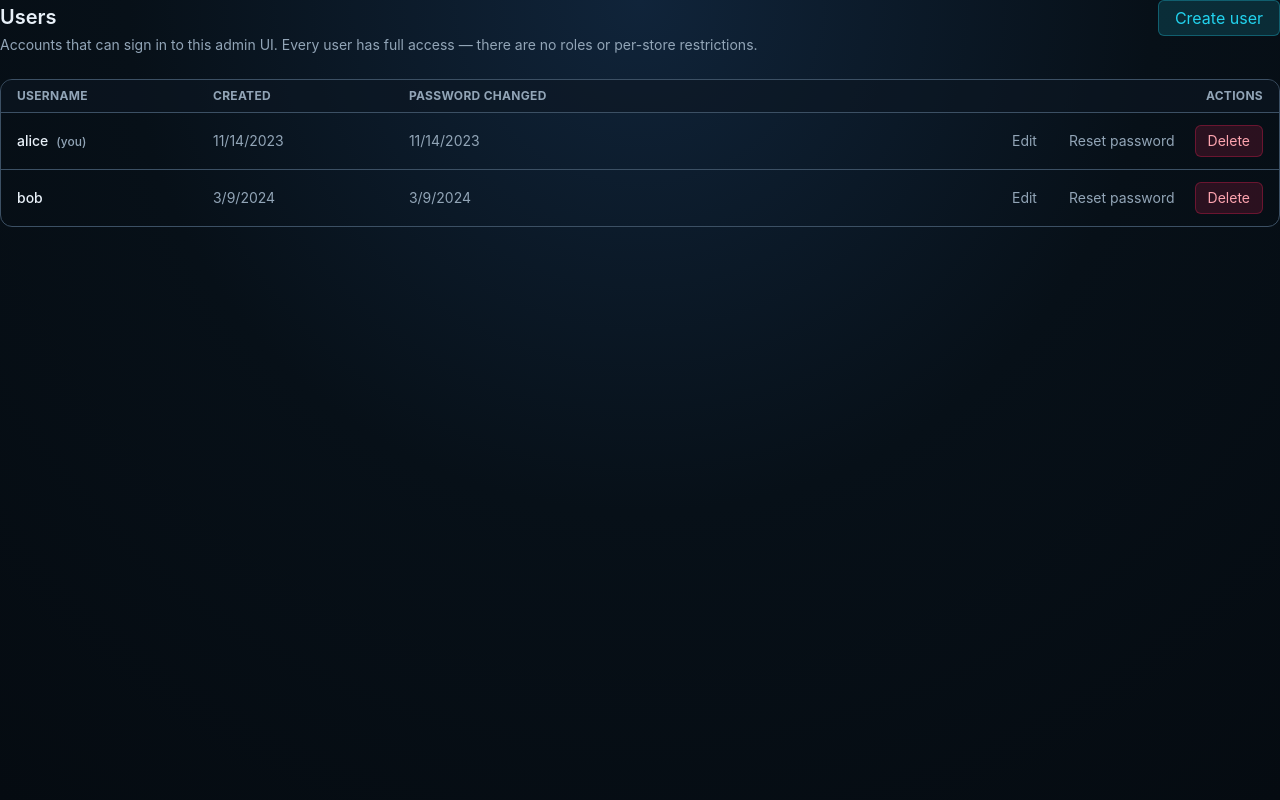
UsersPage › create dialog rejects mismatched passwords
This screenshot has width=1280, height=800.
expect the text "alice" is shown: met, box [17, 132, 48, 149]
Click the button "Create user" at (1219, 18), box [1158, 0, 1279, 36]
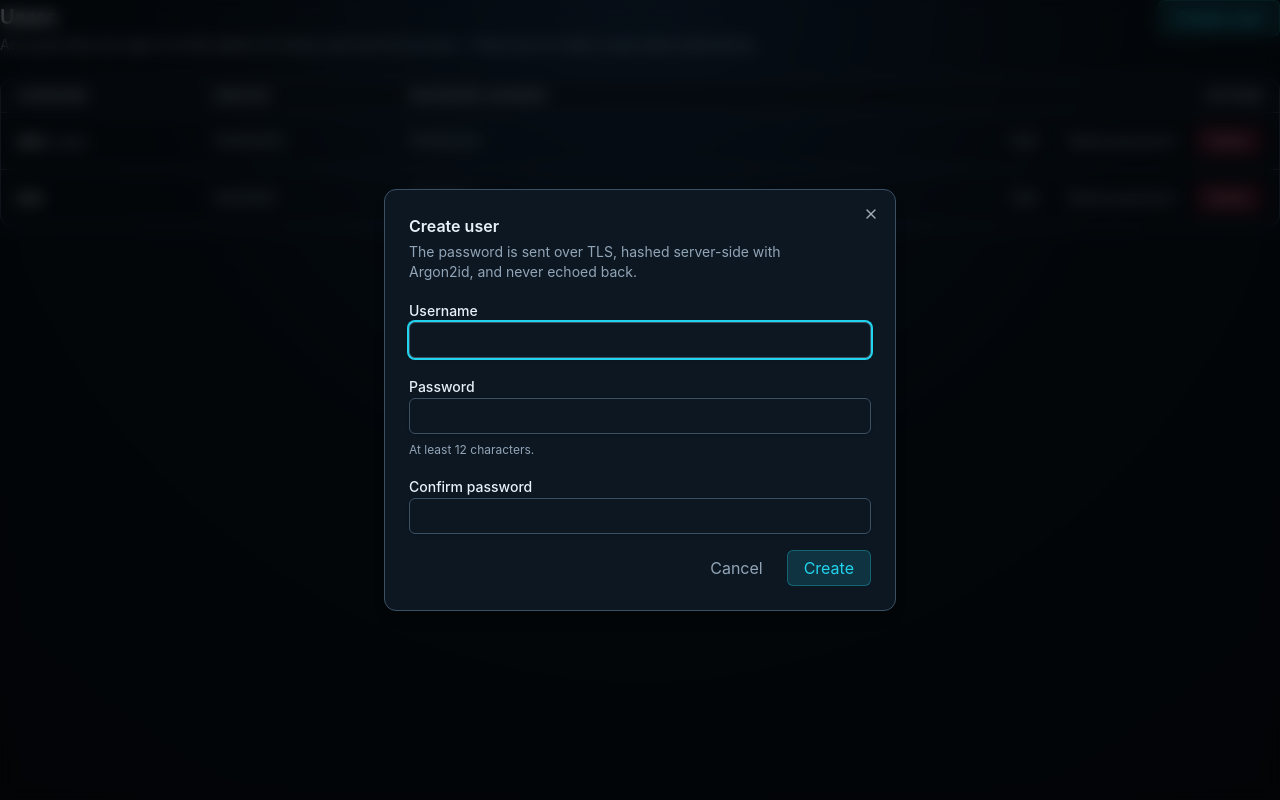
Type "carol" into the field labelled "Username" at (640, 340), box [409, 322, 871, 358]
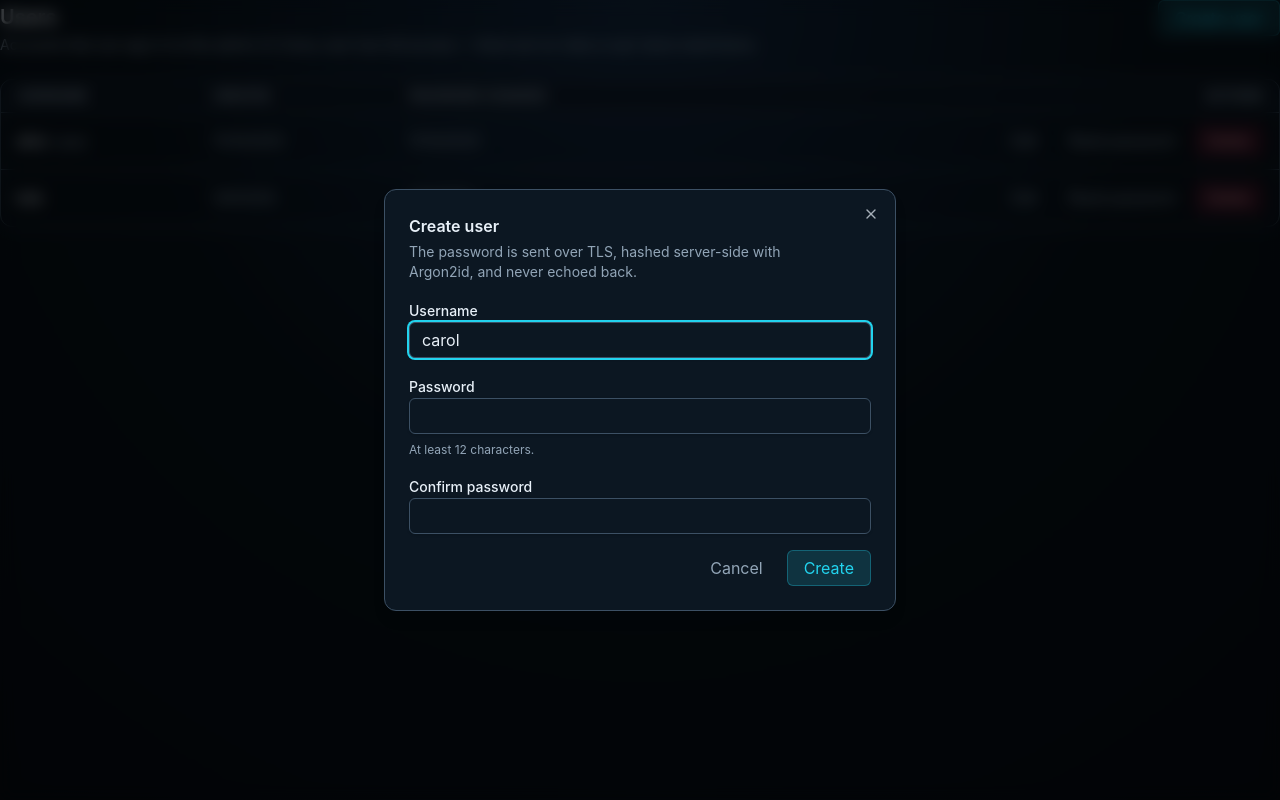
Type "hunter22" into the password field labelled "Password" at (640, 416), box [409, 398, 871, 434]
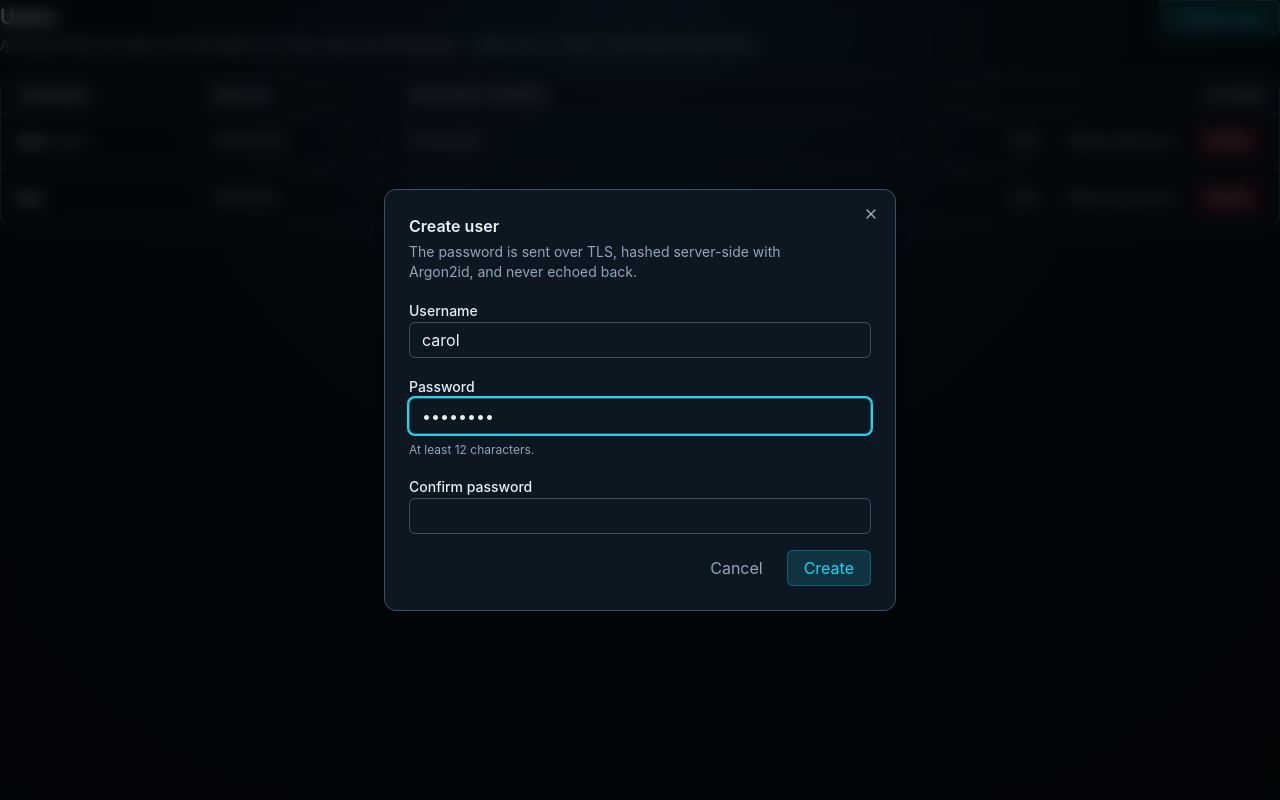
Type "different-1" into the password field labelled "Confirm password" at (640, 516), box [409, 498, 871, 534]
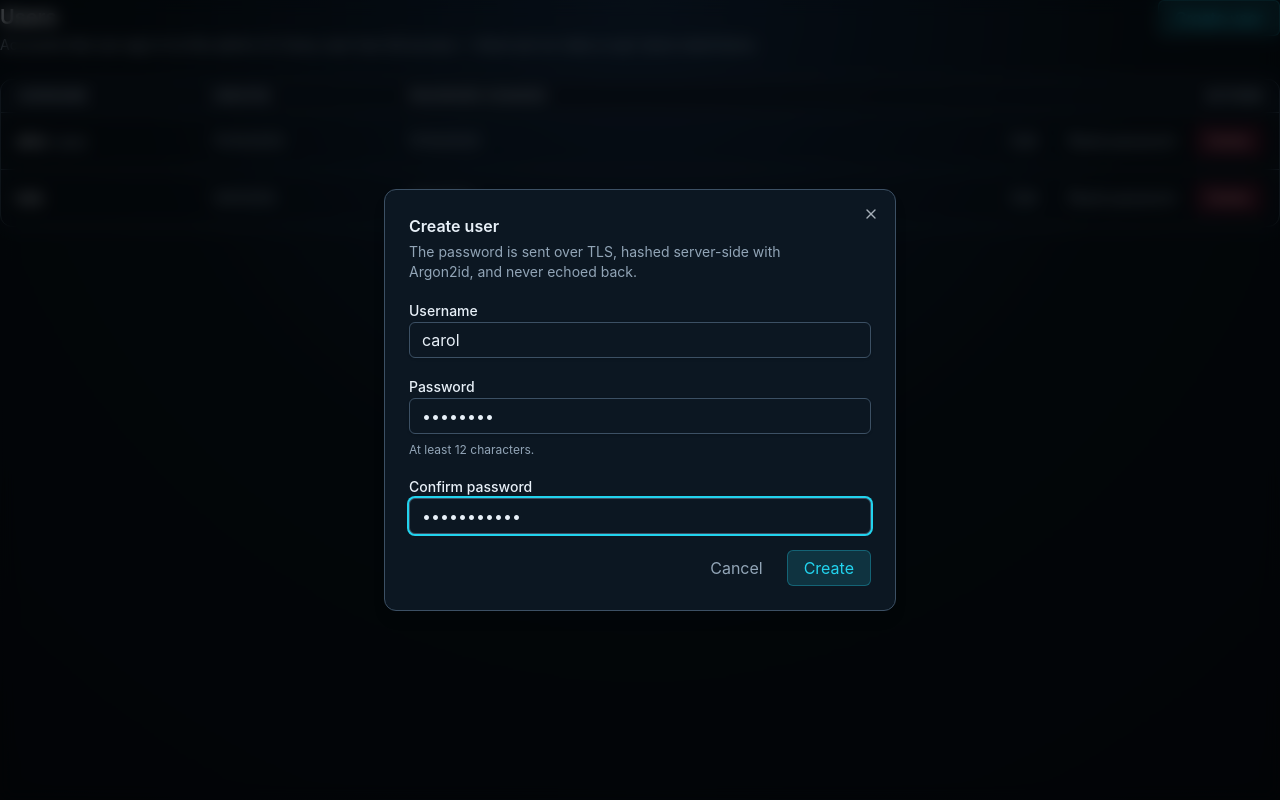
Click the button "Create" at (829, 568), box [787, 550, 871, 586]
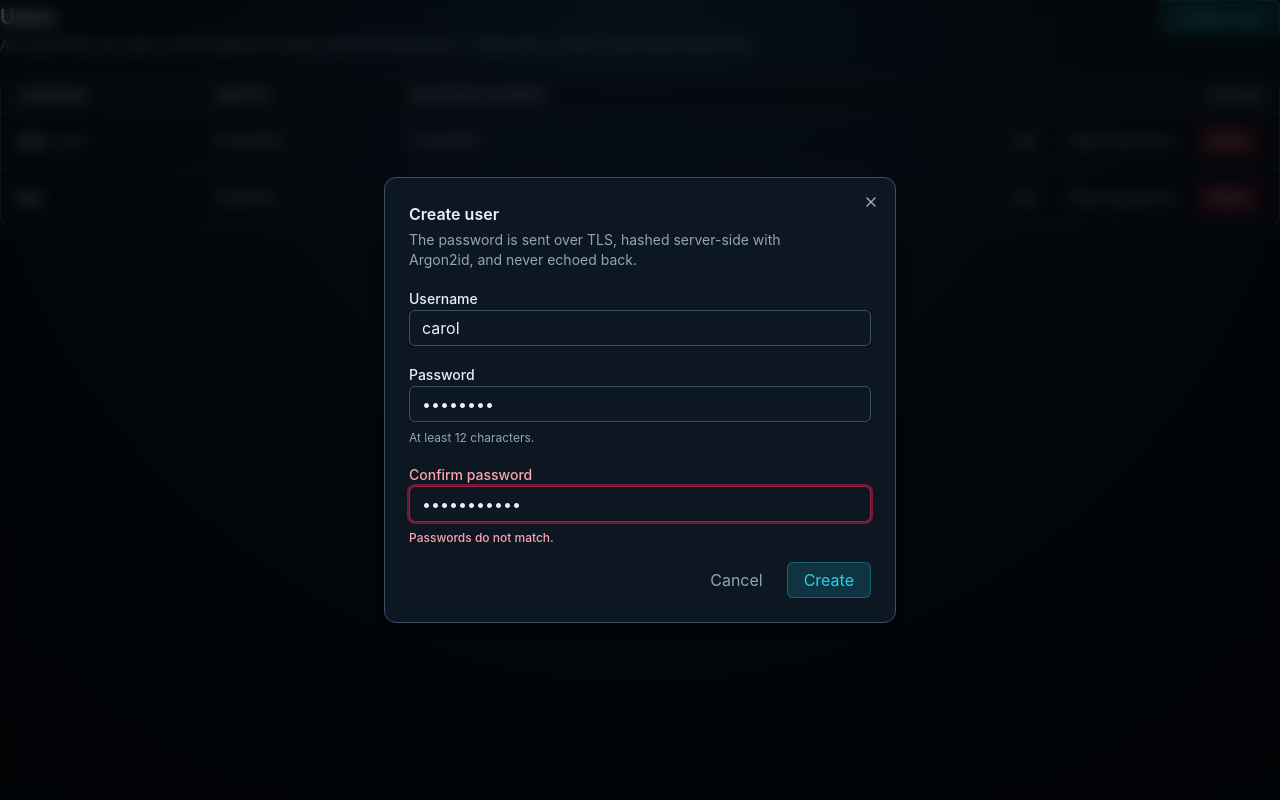
expect the dialog "Create user" shows "passwords do not match": met, box [409, 530, 554, 545]
